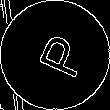P_NW: (24, 28, 86, 82)
